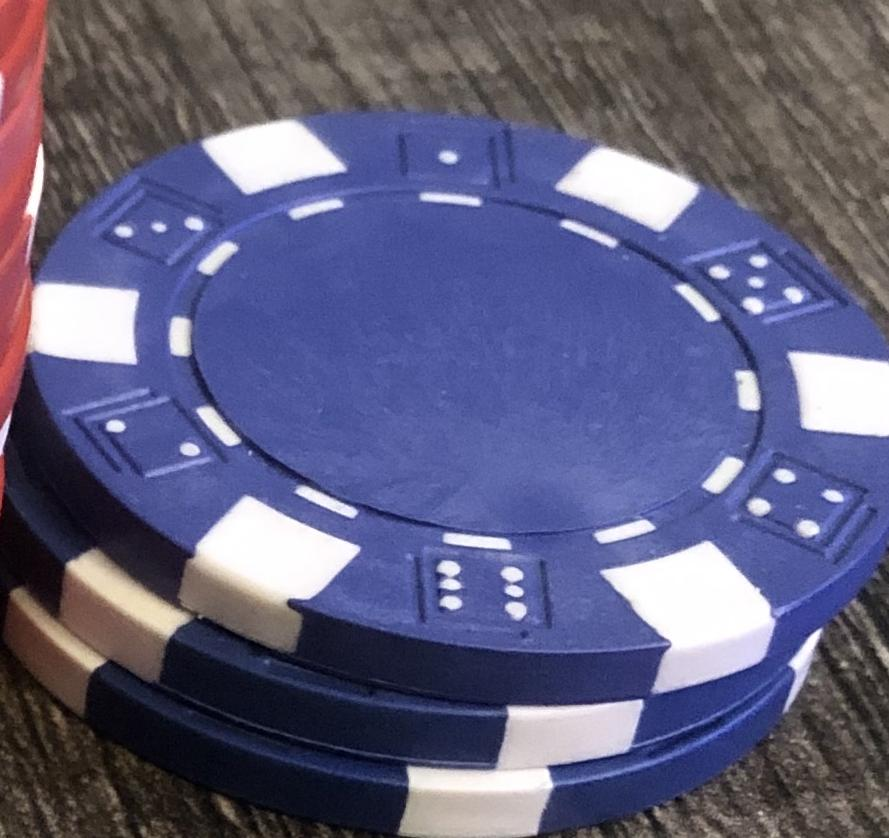Chip: (1, 1, 889, 838)
